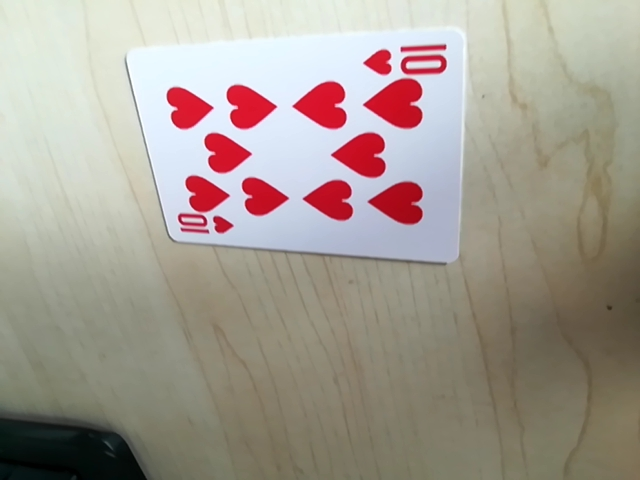hx 10: (364, 36, 455, 80), (169, 213, 236, 244)
